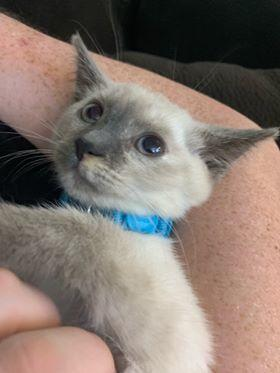siamese: (40, 29, 256, 250)
